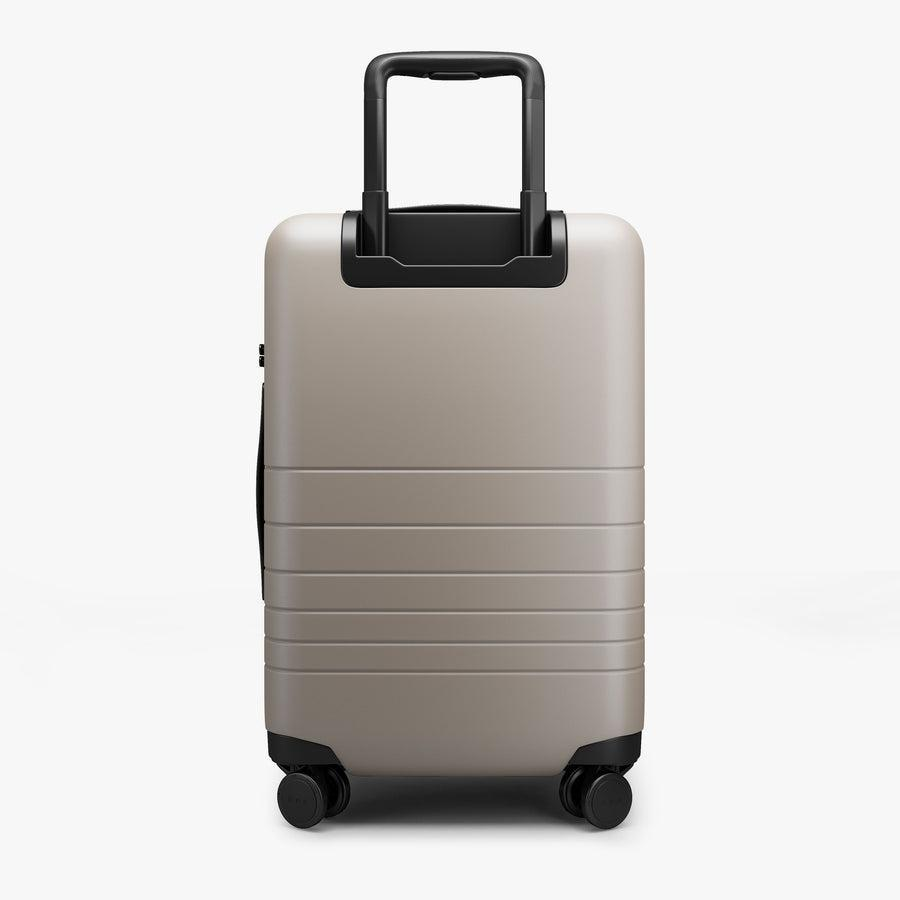suitcase: (244, 195, 652, 794)
